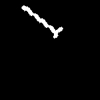half_double_crochet: (22, 6, 62, 37)
